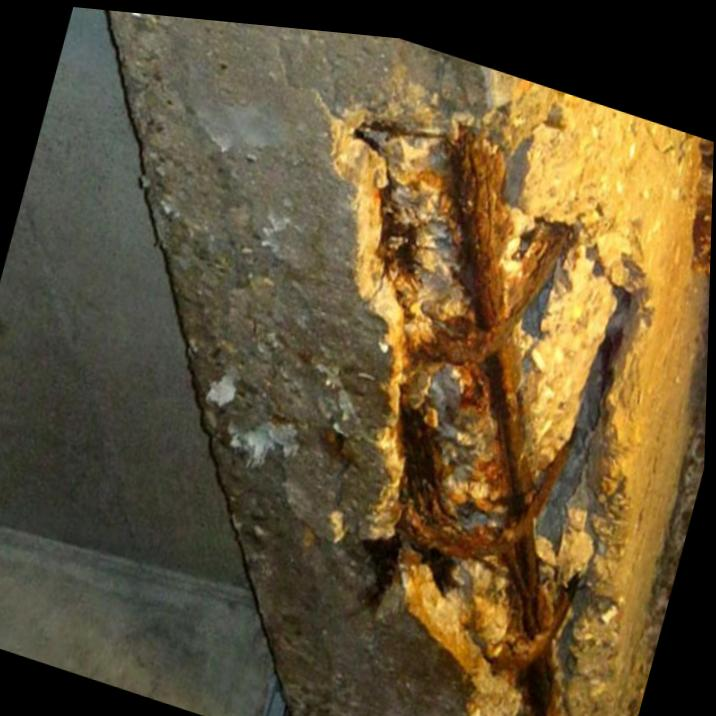damage: (332, 30, 655, 716)
